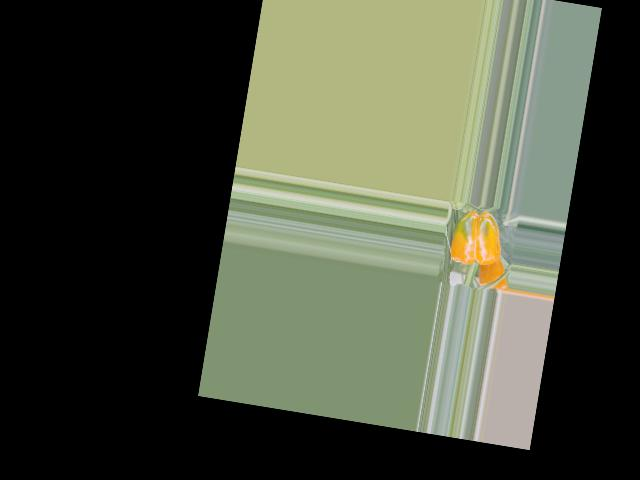bell_pepper: (441, 201, 509, 276)
